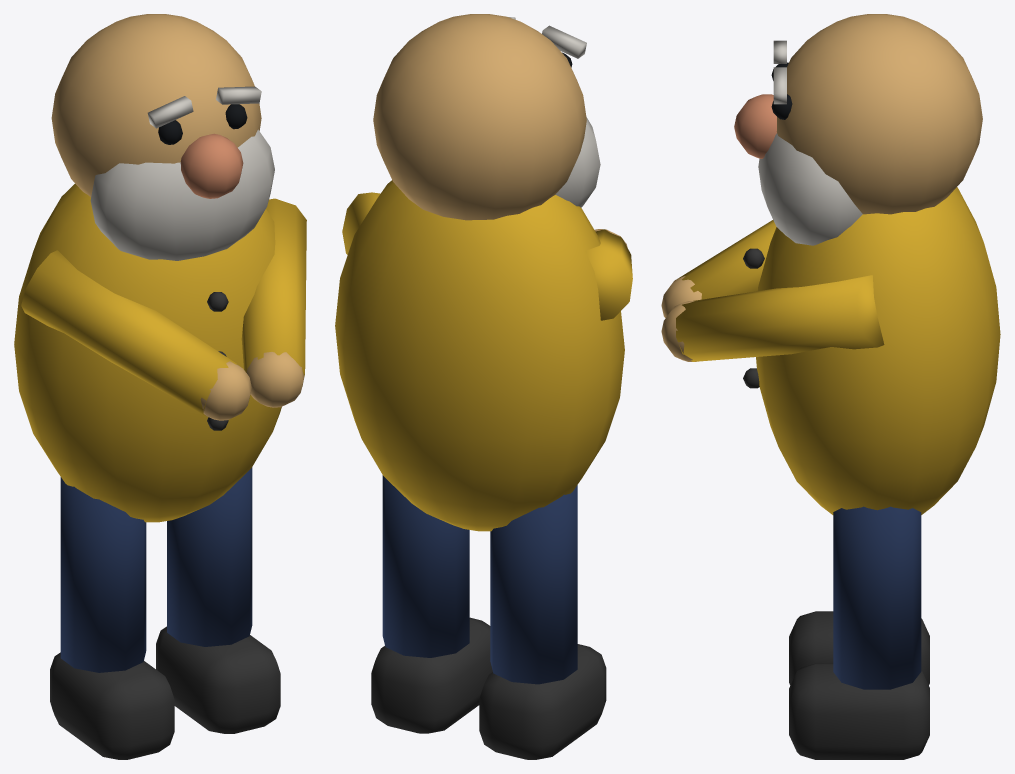
The model's file is fisher.glb.
3 renders of one model, left to right at view 1: azimuth 30°, elevation 25°; view 2: azimuth 150°, elevation 25°; view 3: azimuth 270°, elevation 25°, orthographic.
Visible parts, largest first — view 1: Fisher, Arms; view 2: Fisher, Arms; view 3: Fisher, Arms.
Boxes of the visible parts, left/top/right/bottom form: Fisher: left=14, top=14, right=281, bottom=759; Arms: left=21, top=198, right=306, bottom=420; Fisher: left=335, top=14, right=624, bottom=759; Arms: left=342, top=192, right=632, bottom=320; Fisher: left=734, top=14, right=1000, bottom=759; Arms: left=661, top=220, right=884, bottom=361.
Size of the model in its own units: 0.7459 by 1.76 by 0.77.
